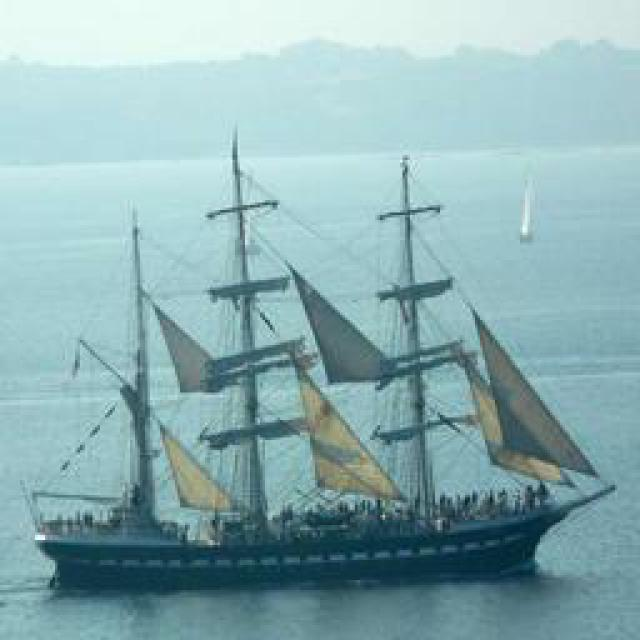Ship: (25, 130, 603, 590)
